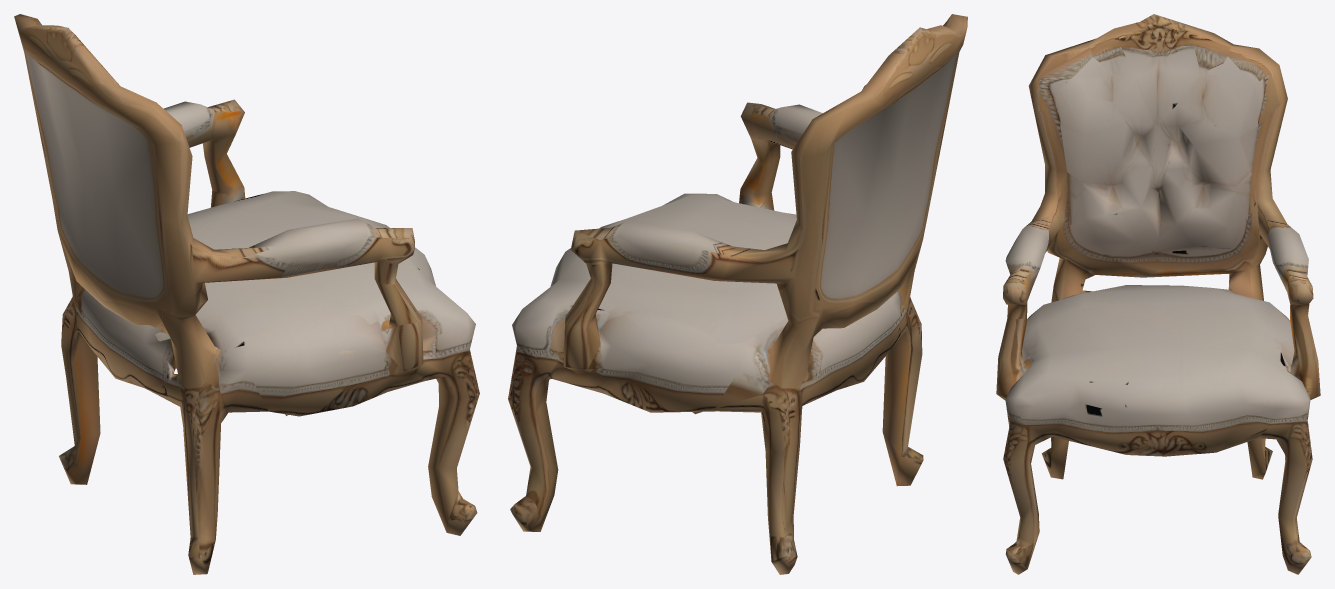
Rendered from Dining Chare  White1.fbx.
3 views of the same model, side by side, from view 1: azimuth 30°, elevation 25°; view 2: azimuth 150°, elevation 25°; view 3: azimuth 270°, elevation 25° (orthographic). The views are drawn at different scales.
Parts seen in each view (by area): view 1: tripo_node_d7646ff0; view 2: tripo_node_d7646ff0; view 3: tripo_node_d7646ff0.
Part boxes in pixels (left/top/right/bottom): tripo_node_d7646ff0: left=14, top=14, right=479, bottom=574; tripo_node_d7646ff0: left=508, top=14, right=967, bottom=574; tripo_node_d7646ff0: left=996, top=14, right=1320, bottom=574.
Bounding box in the file's own units: 66.77 × 94.63 × 63.92.
Materials: 1 (1 with a texture image).
